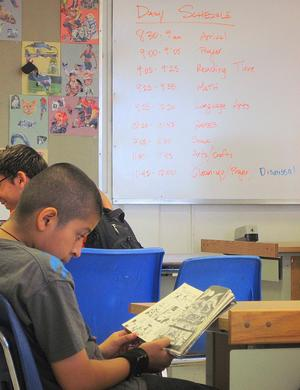person: (1, 163, 175, 390)
